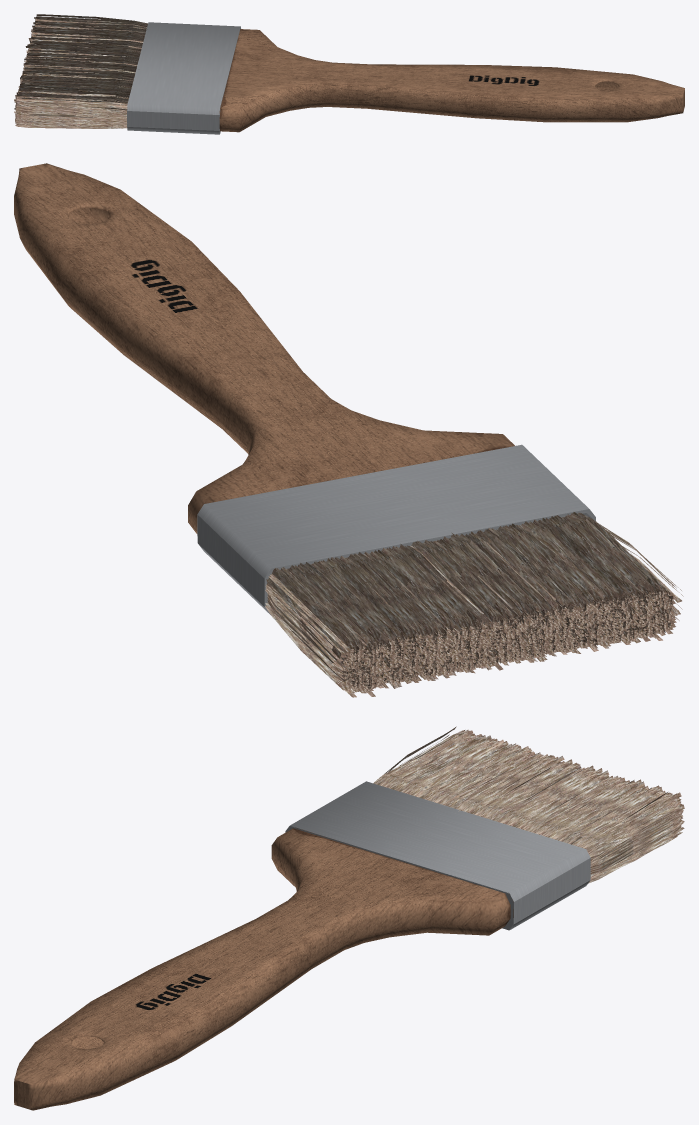
The model's file is brush.fbx.
3 renders of one model, top to bottom at view 1: azimuth 30°, elevation 25°; view 2: azimuth 150°, elevation 25°; view 3: azimuth 270°, elevation 25°, orthographic. The views are drawn at different scales.
Visible parts, largest first — view 1: brushh; view 2: brushh; view 3: brushh.
Boxes of the visible parts, x1,y1,x2,y2 form: brushh: (14,14,684,134); brushh: (14,163,683,697); brushh: (14,726,684,1110).
Size of the model in its own units: 13.89 by 0.8535 by 11.08.
